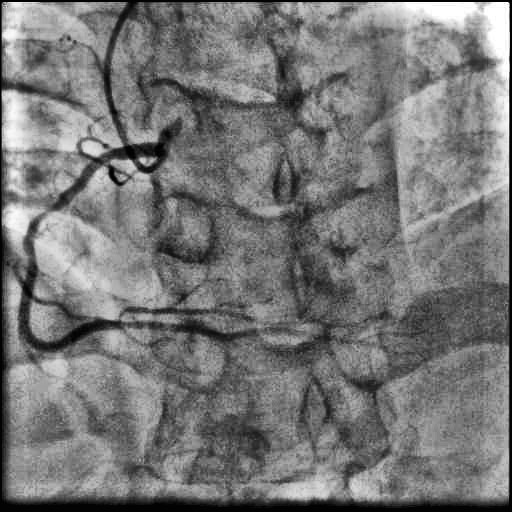rca: (18, 142, 350, 352)
